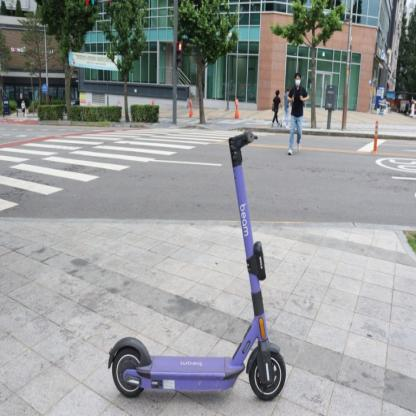kickboard: (96, 116, 294, 410)
